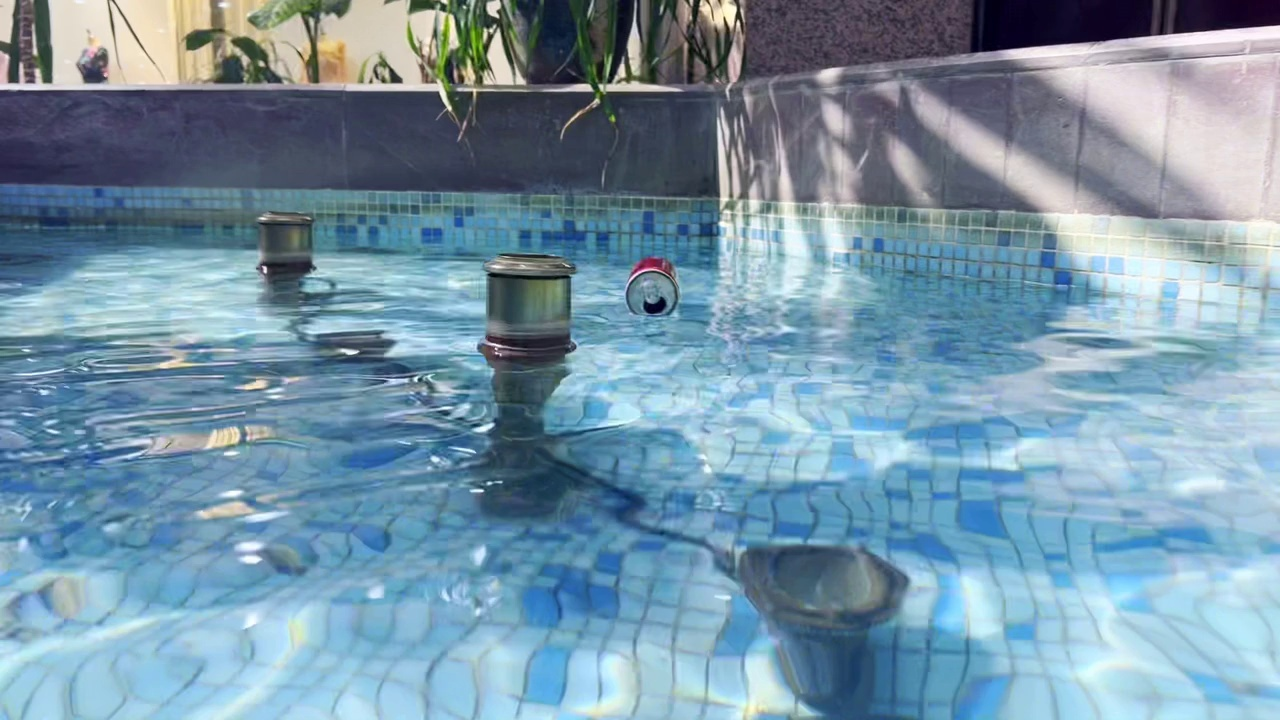debris: (623, 248, 682, 320)
